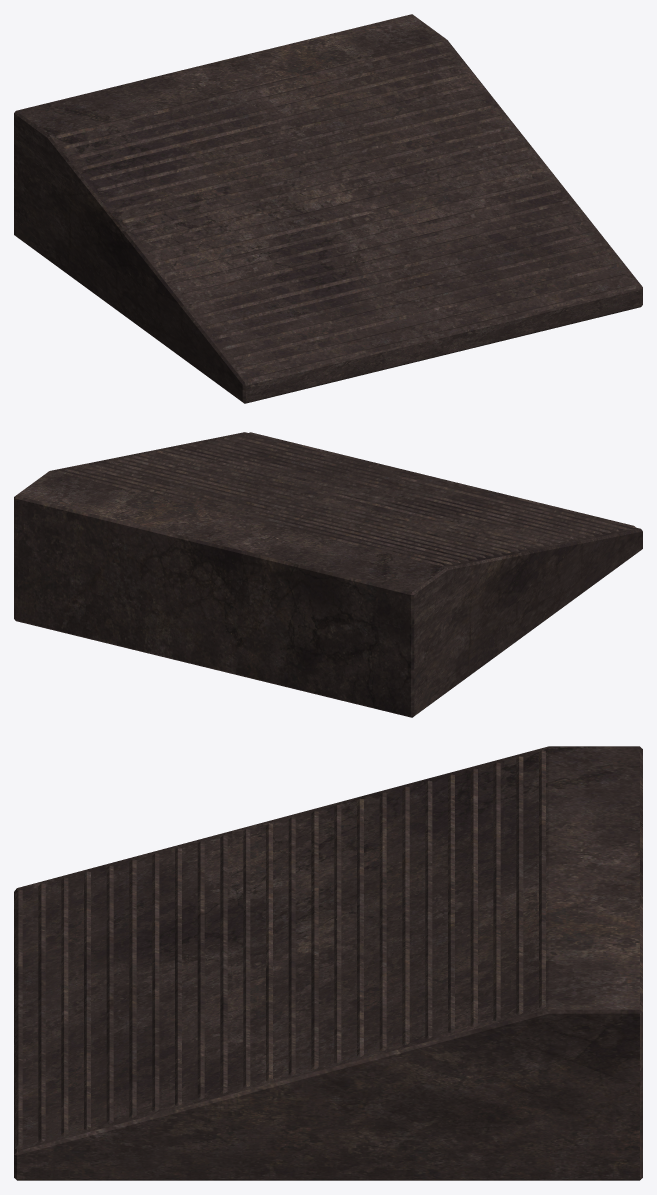
File: SK3 RAMP.fbx
3 views of the same model, one above another, from view 1: azimuth 30°, elevation 25°; view 2: azimuth 150°, elevation 25°; view 3: azimuth 270°, elevation 25° (orthographic). The views are drawn at different scales.
Parts seen in each view (by area): view 1: SK3 RAMP; view 2: SK3 RAMP; view 3: SK3 RAMP.
Boxes of the visible parts, x1,y1,x2,y2 form: SK3 RAMP: (14, 14, 642, 403); SK3 RAMP: (14, 432, 642, 717); SK3 RAMP: (14, 746, 642, 1180).
Size of the model in its own units: 400 by 120 by 400.
